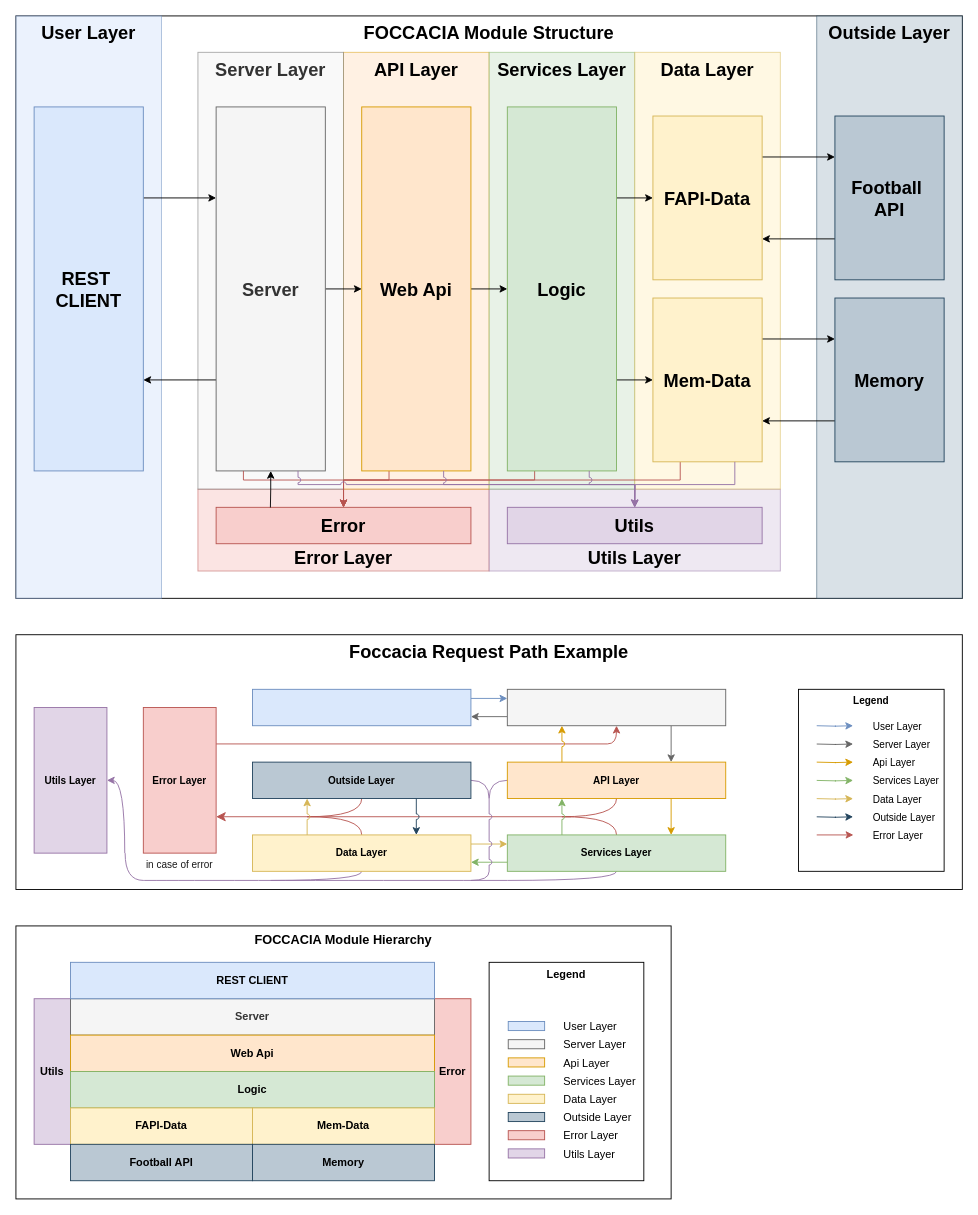
This 978x1215 diagram has some shape labels left out. The shapes that lost their labels are listed below. From the top down, each one's centre as x and y in pixels, then its label:
point 361,707: User Layer POST http://localhost:3000/groups/1/1111
point 616,707: Server Layer POST /groups/1/1111
